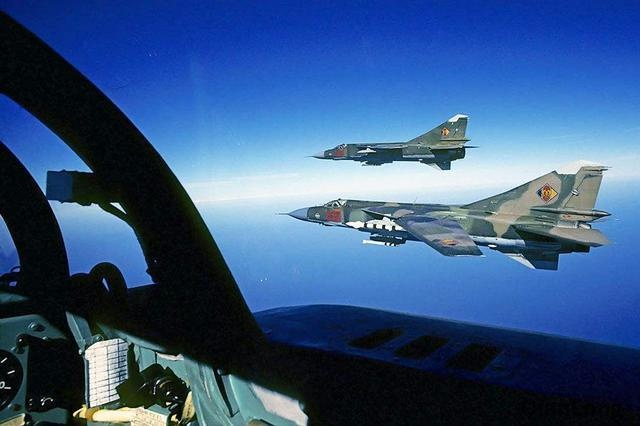airplane: (272, 162, 619, 273), (306, 108, 480, 175)
